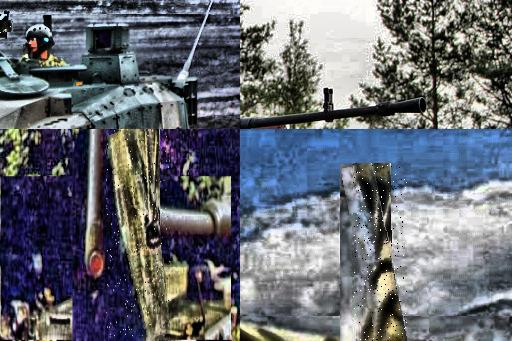tanks: (1, 26, 197, 130), (107, 130, 171, 338), (354, 164, 407, 341), (241, 99, 427, 130), (87, 130, 112, 277), (1, 20, 13, 34)
